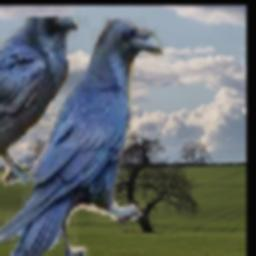Crow: (0, 18, 164, 256)
